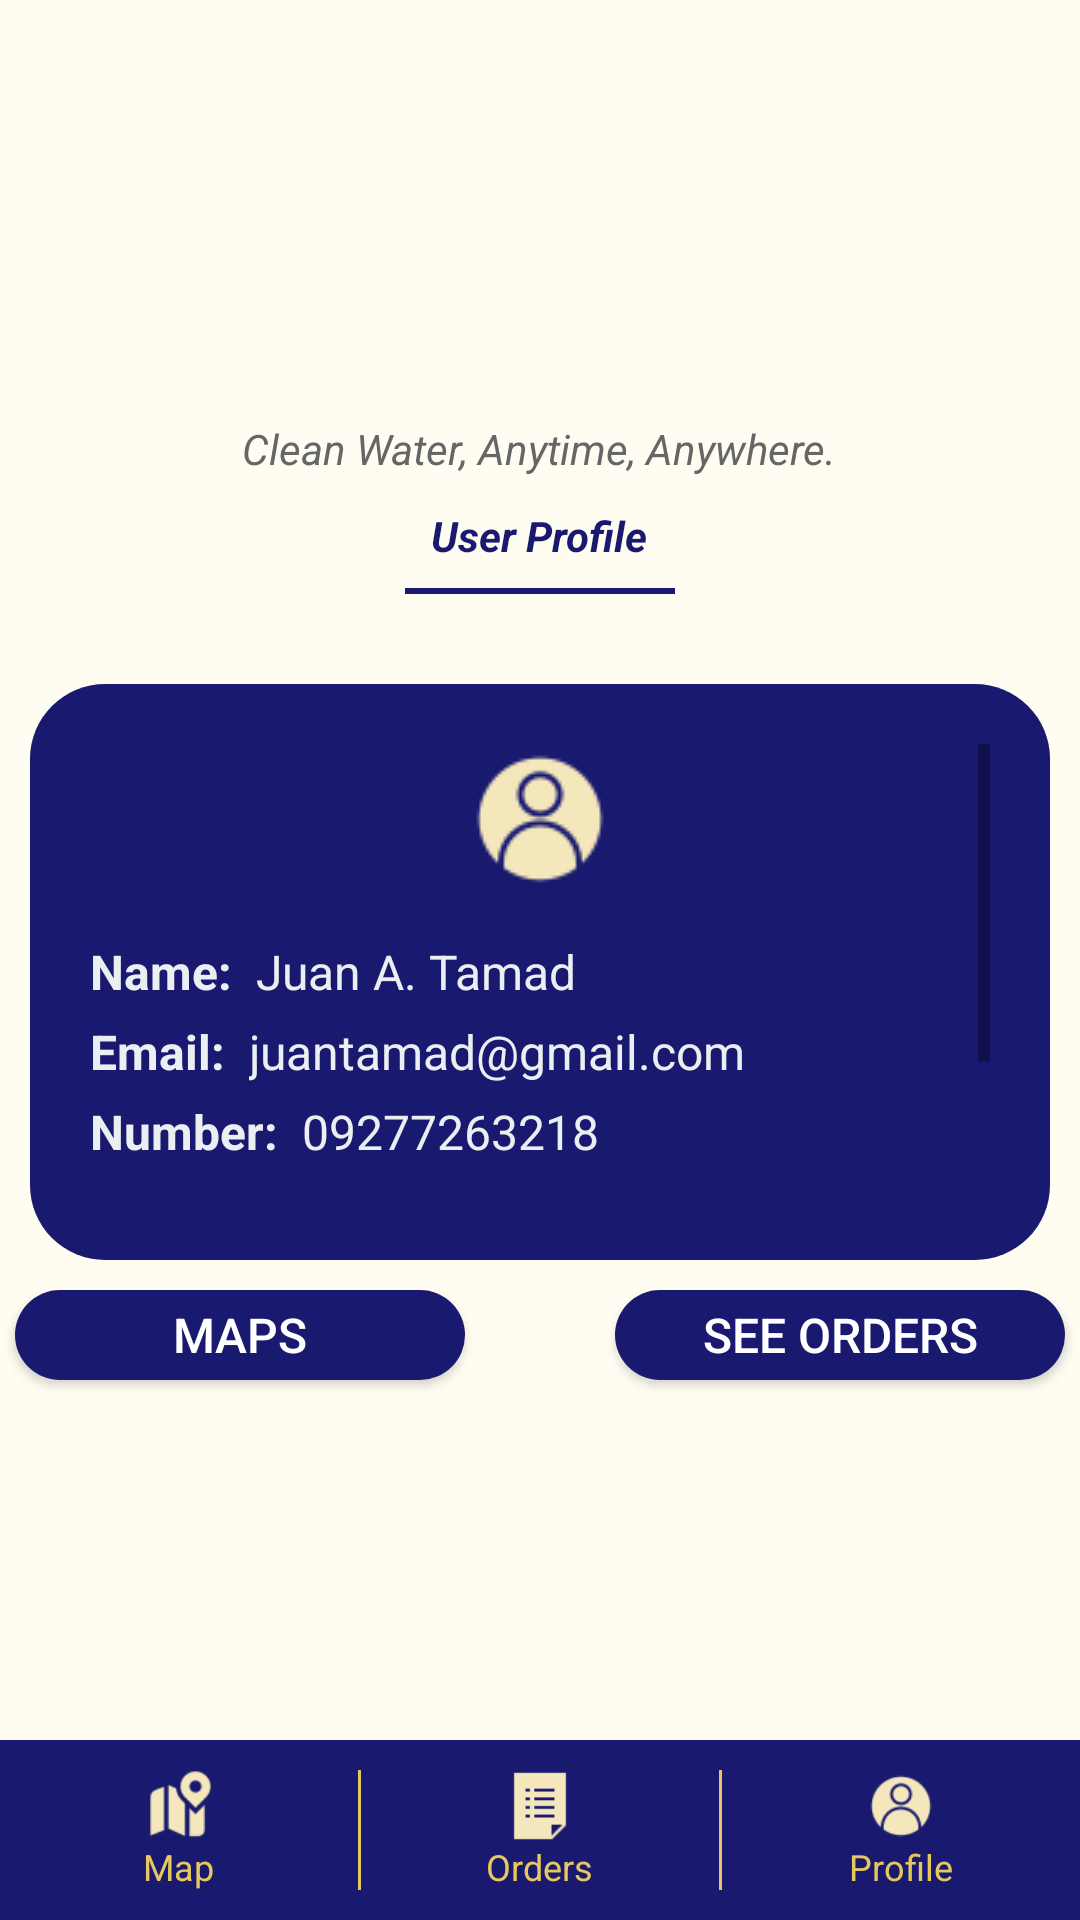

Icons on this 1080 x 1920 Android screen, each with the point to tap as point (x, y):
user: point (540, 819)
